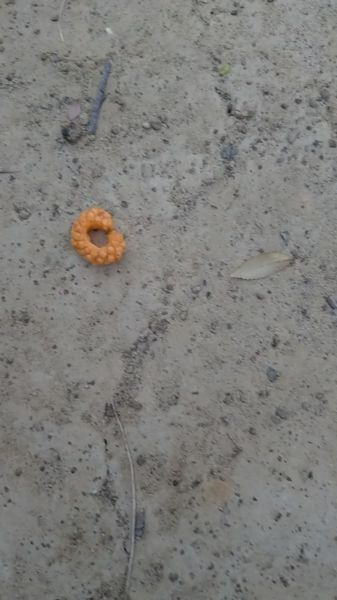eggs: (67, 202, 126, 262)
